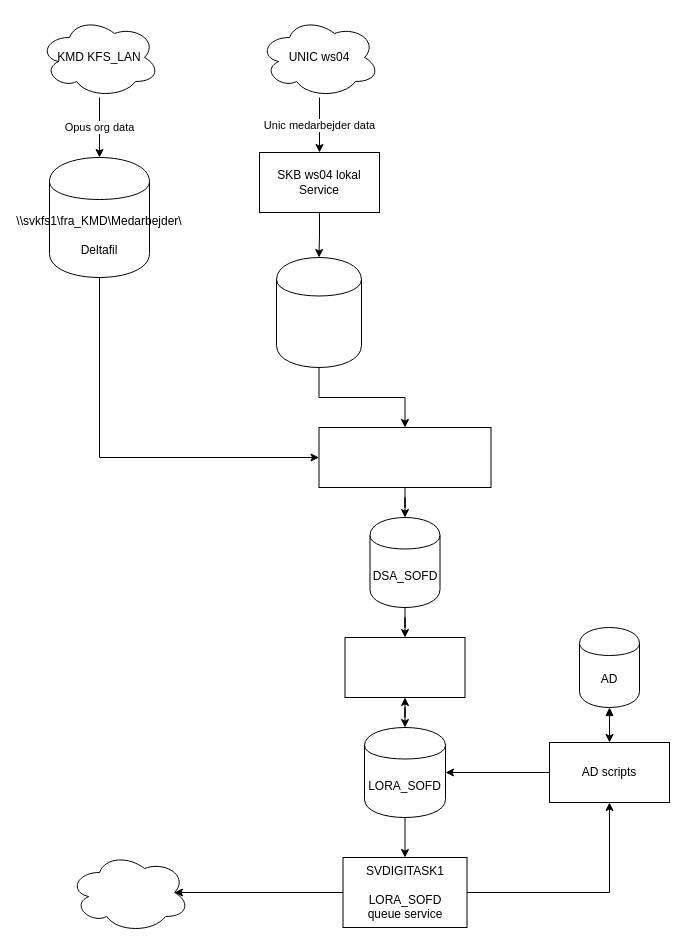
Some shapes in this 687 by 950 pixel diagram are drawn without their labels. Here are the shapes that lost their labels. From the top down, the centre of each, then its label:
pixel 319 312: SVSIS1 c:\SSIS\unic Deltafil
pixel 404 457: SVSIS1 DSA_SOFD_SSIS_service
pixel 404 667: SVDIGITASK1 LORA_SOFD service
pixel 129 892: STS ORG
